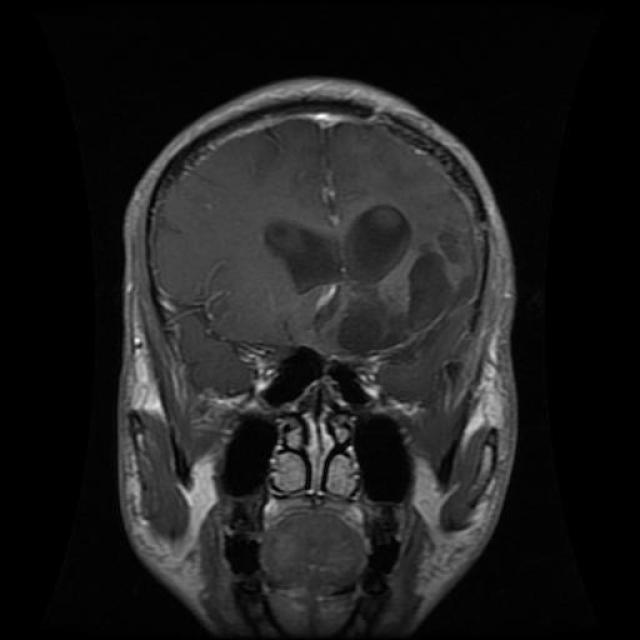glioma: (262, 206, 410, 295)
